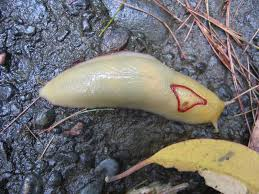slug: (38, 54, 227, 126)
